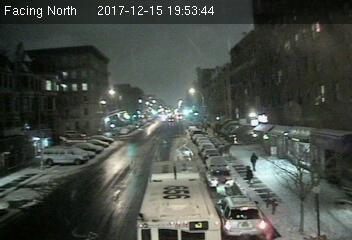bus: (138, 159, 223, 240)
car: (219, 196, 269, 240), (207, 166, 234, 188)
pedestrian: (251, 151, 259, 172)
